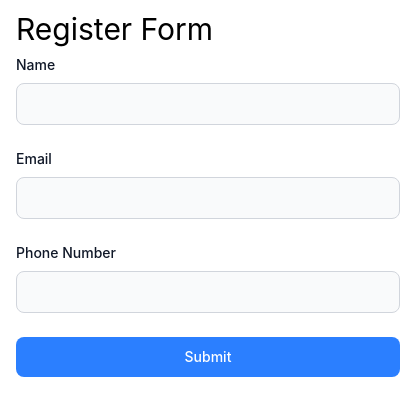
Test: RegisterForm component › shows validation email format errors
Type "John Doe" into the field labelled "Name" at (208, 104), box [16,83,400,125]
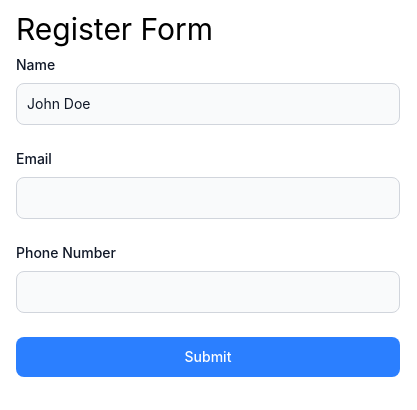
Type "johndoe@example" into the field labelled "Email" at (208, 198), box [16,177,400,219]
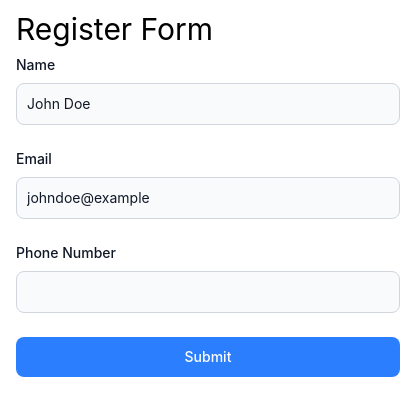
Type "1234567890" into the field labelled "Phone Number" at (208, 292), box [16,271,400,313]
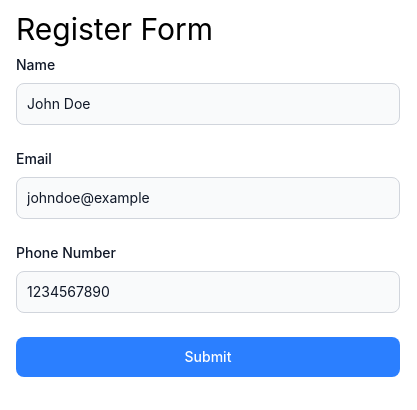
Click the button "Submit" at (208, 357), box [16,337,400,377]
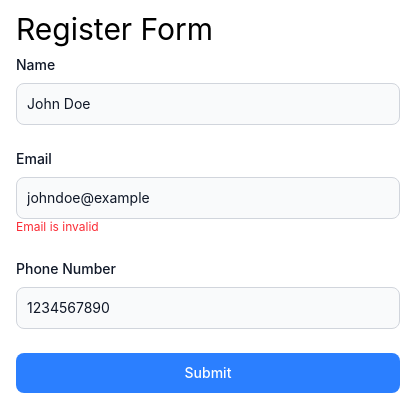
expect the text "Email is invalid" is shown: met, box [16,219,99,234]
